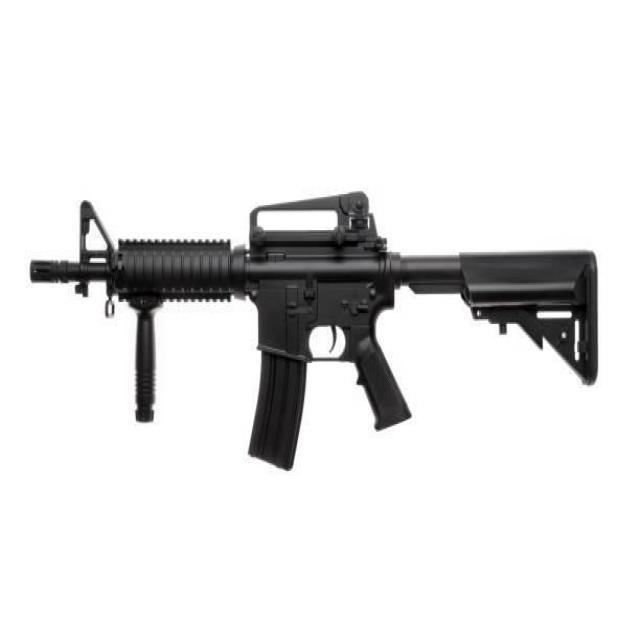weapon: (31, 188, 600, 474)
